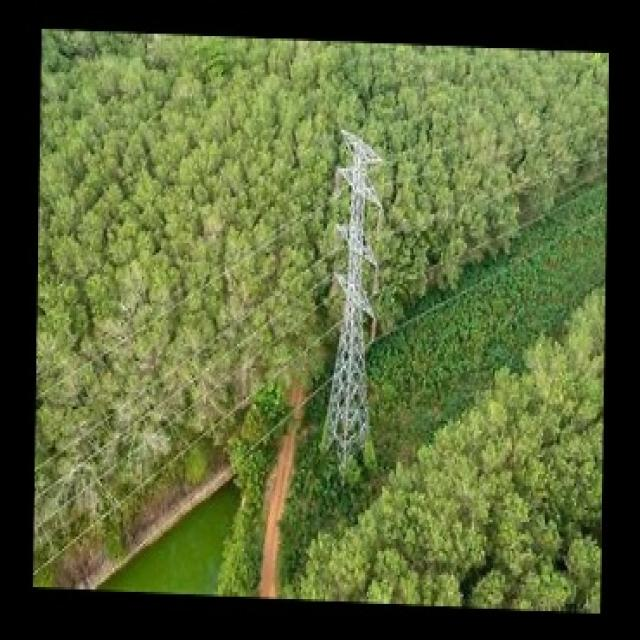utility poles: (304, 76, 410, 499)
